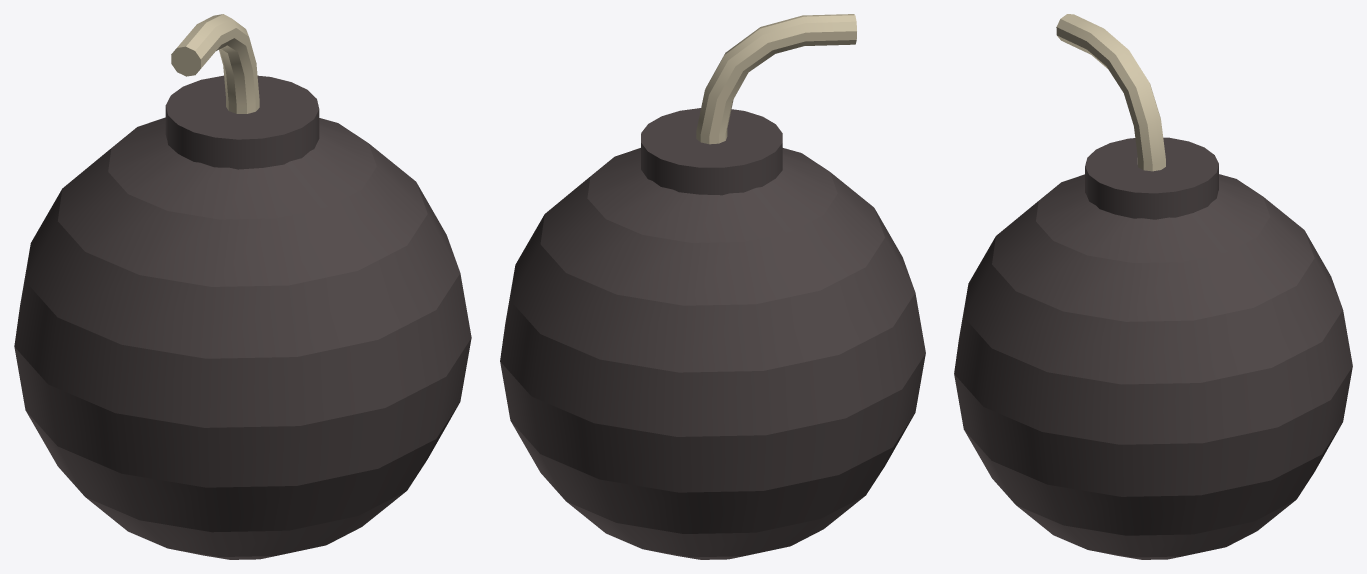
The model's file is bomb.fbx.
3 renders of one model, left to right at view 1: azimuth 30°, elevation 25°; view 2: azimuth 150°, elevation 25°; view 3: azimuth 270°, elevation 25°, orthographic. The views are drawn at different scales.
Parts seen in each view (by area): view 1: polySurface1; view 2: polySurface1; view 3: polySurface1.
Boxes of the visible parts, x1,y1,x2,y2 form: polySurface1: (14, 14, 471, 559); polySurface1: (500, 14, 925, 559); polySurface1: (954, 14, 1352, 559).
Bounding box in the file's own units: 1.99 × 2.67 × 1.99.
